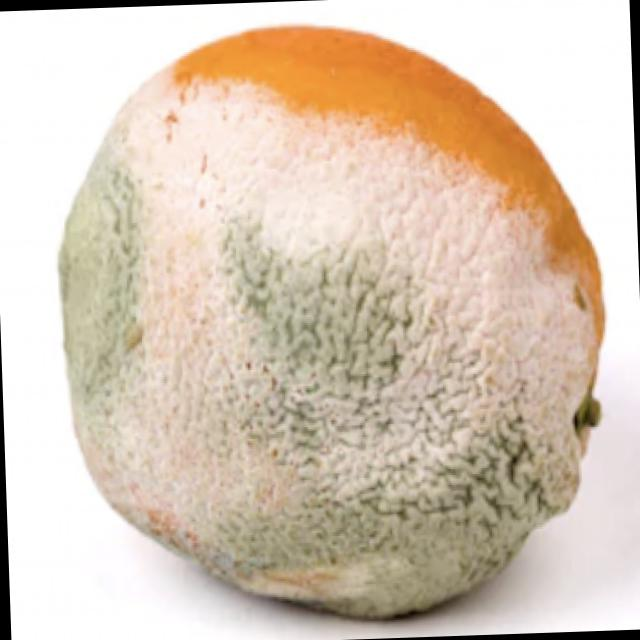rotten-orange: (49, 16, 613, 626)
